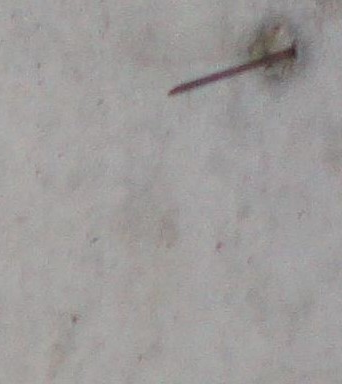Exposed reinforcement: (166, 47, 296, 97)
Spalling: (250, 23, 300, 75)
